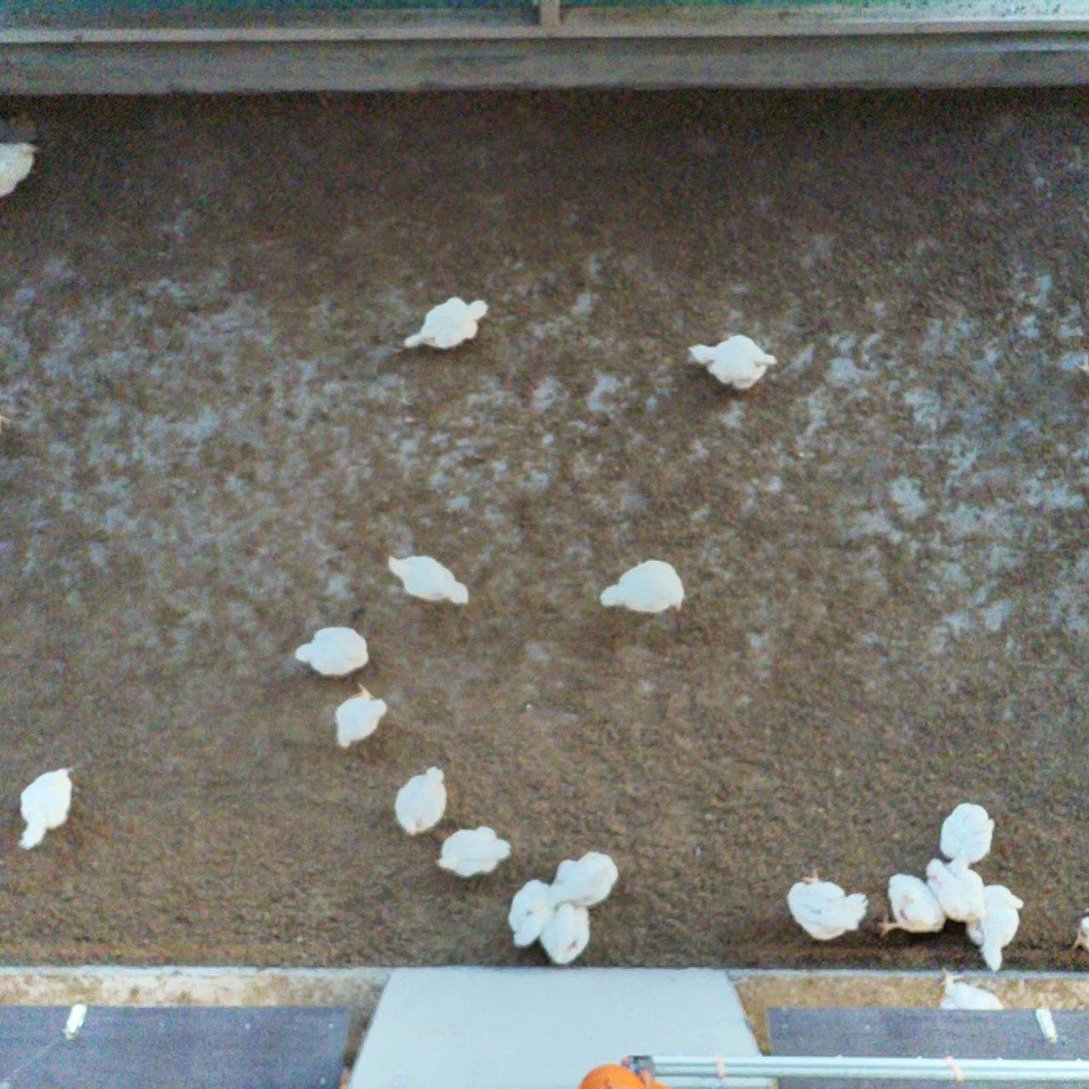chicken: (685, 331, 782, 395), (14, 762, 82, 853), (962, 881, 1028, 974), (788, 867, 868, 943), (399, 292, 490, 355), (596, 554, 687, 617), (381, 549, 474, 607), (879, 866, 945, 943), (295, 618, 370, 680), (433, 824, 511, 882), (937, 800, 998, 874), (333, 681, 393, 753), (922, 853, 986, 920), (395, 763, 449, 842), (550, 852, 621, 909), (538, 897, 597, 965), (508, 874, 559, 946), (0, 137, 40, 209), (1063, 904, 1089, 964)
